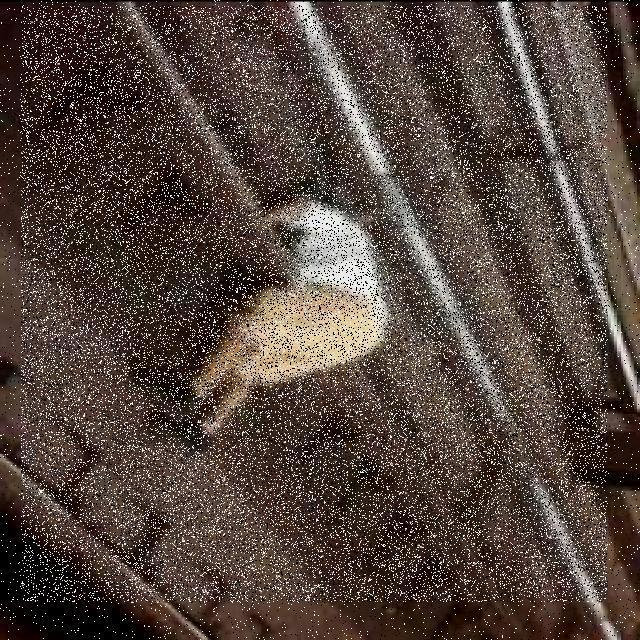danger: (112, 186, 411, 445)
rail: (21, 6, 608, 602)
